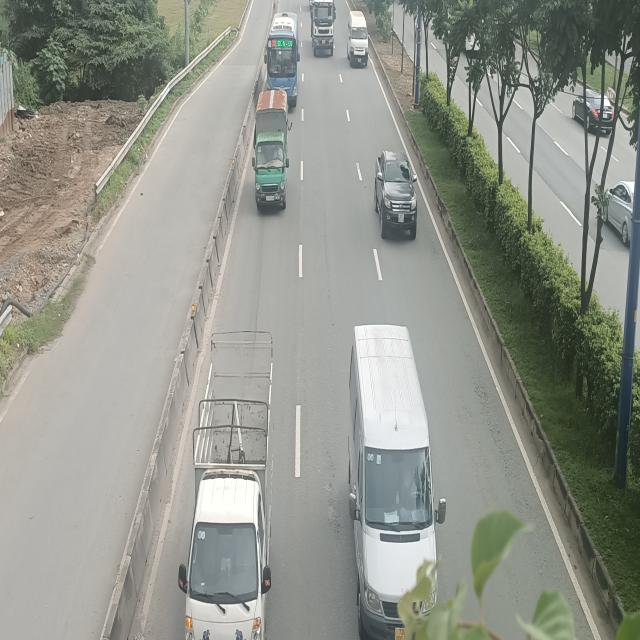car: (375, 150, 418, 236)
coach: (264, 11, 300, 104)
truck: (177, 329, 272, 635), (252, 89, 289, 208), (310, 0, 336, 56)
van: (348, 326, 446, 638), (347, 12, 368, 64)
